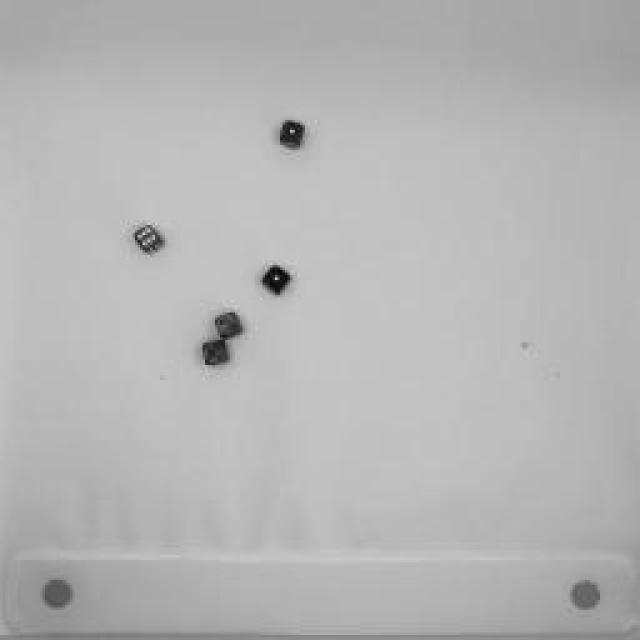dice_1: (260, 265, 292, 297), (275, 119, 307, 151)
dice_2: (216, 310, 244, 340)
dice_5: (202, 341, 230, 369)
dice_6: (133, 222, 165, 258)
